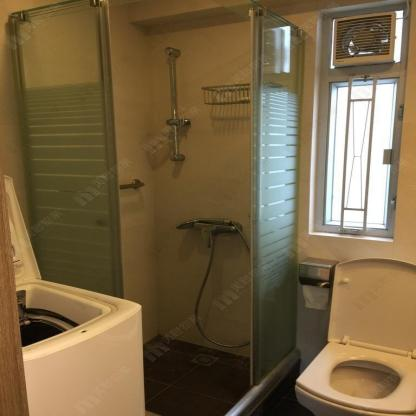Exhaust Fan: (334, 14, 398, 67)
Toilet: (292, 257, 415, 416)
Washing Machine: (0, 176, 150, 416)
Water Cubicle: (8, 0, 309, 416)
